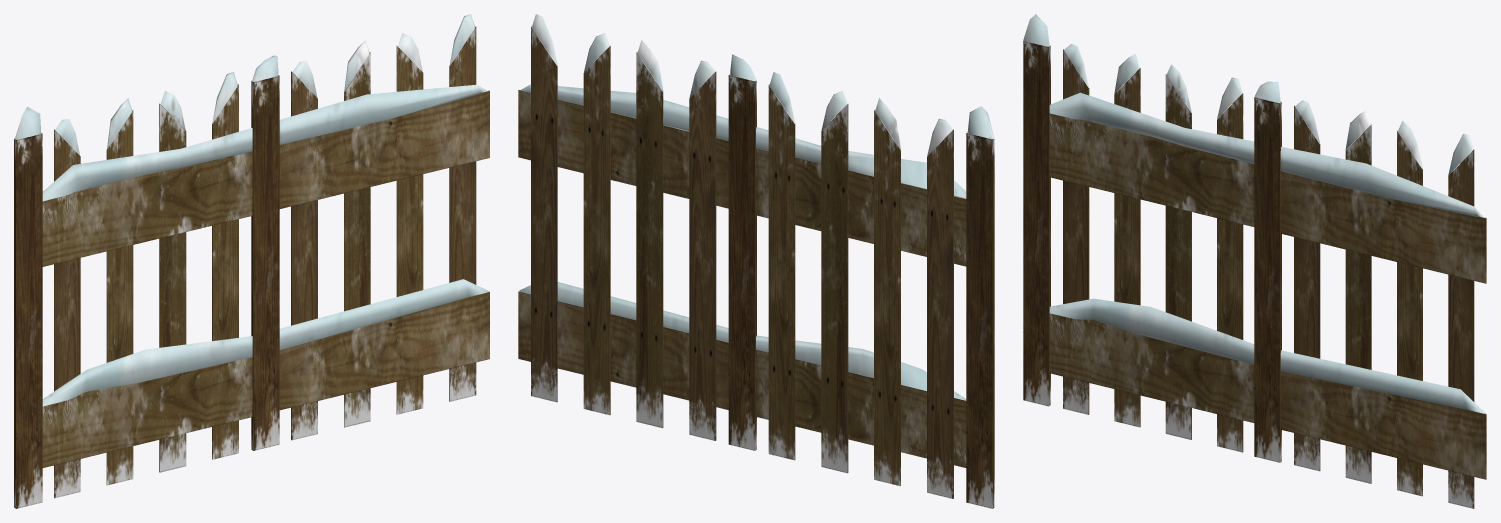
File: fence_double.FBX
The picture shows the model from 3 angles, left to right: view 1: azimuth 30°, elevation 25°; view 2: azimuth 150°, elevation 25°; view 3: azimuth 330°, elevation 25°; orthographic projection. The views are drawn at different scales.
Parts seen in each view (by area): view 1: fence_double; view 2: fence_double; view 3: fence_double.
Boxes of the visible parts, x1=… form: fence_double: x1=14, y1=14, x2=489, y2=508; fence_double: x1=518, y1=14, x2=994, y2=508; fence_double: x1=1023, y1=14, x2=1486, y2=508.
Bounding box in the file's own units: 26.36 × 21.13 × 0.2042.
1 material, 1 textured.
